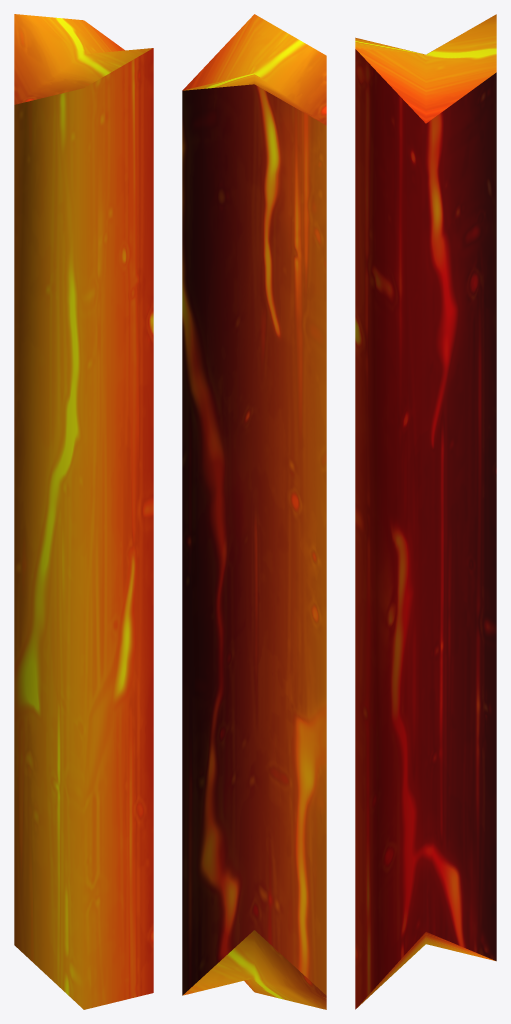
File: p_mesh_hvs_burntforest_branch_small.fbx
The picture shows the model from 3 angles, left to right: view 1: azimuth 30°, elevation 25°; view 2: azimuth 150°, elevation 25°; view 3: azimuth 270°, elevation 25°; orthographic projection. The views are drawn at different scales.
Parts seen in each view (by area): view 1: p_mesh_hvs_burntforest_small_branch; view 2: p_mesh_hvs_burntforest_small_branch; view 3: p_mesh_hvs_burntforest_small_branch.
Part boxes in pixels (<box>): p_mesh_hvs_burntforest_small_branch: <box>14,14,153,1009</box>; p_mesh_hvs_burntforest_small_branch: <box>182,14,326,1009</box>; p_mesh_hvs_burntforest_small_branch: <box>355,14,496,1009</box>.
Bounding box in the file's own units: 0.5 × 3.24 × 0.433.
Materials: 1 (1 with a texture image).
